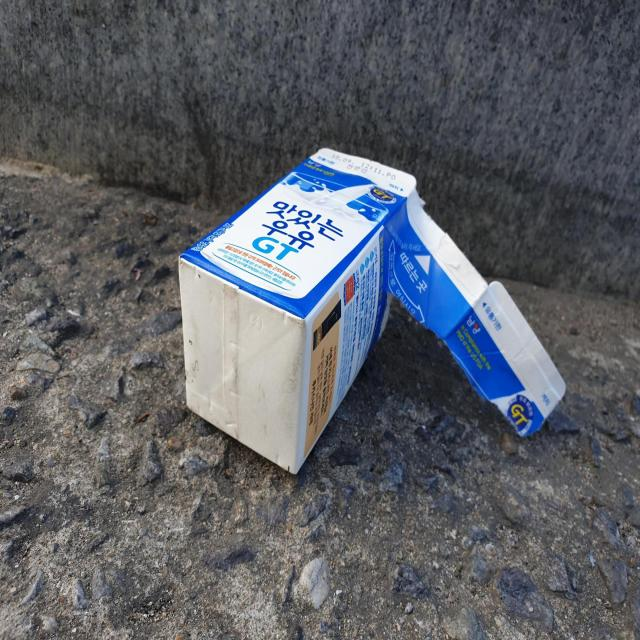paperpack: (179, 148, 566, 474)
